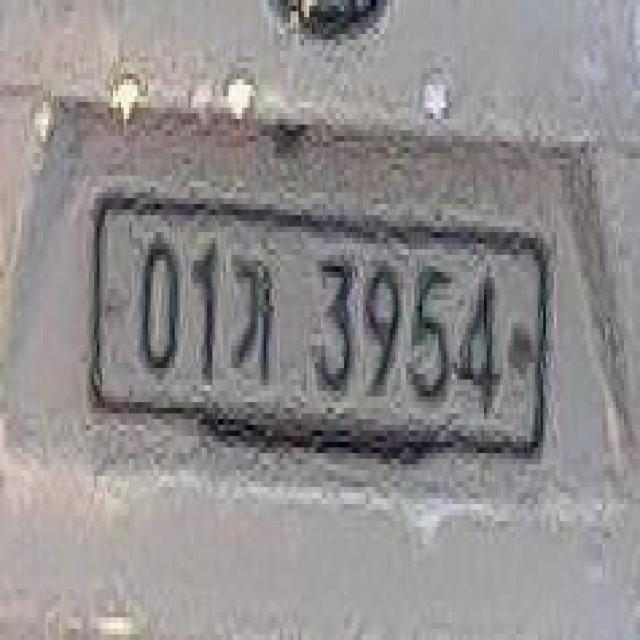illegal_plate: (90, 184, 546, 485)
